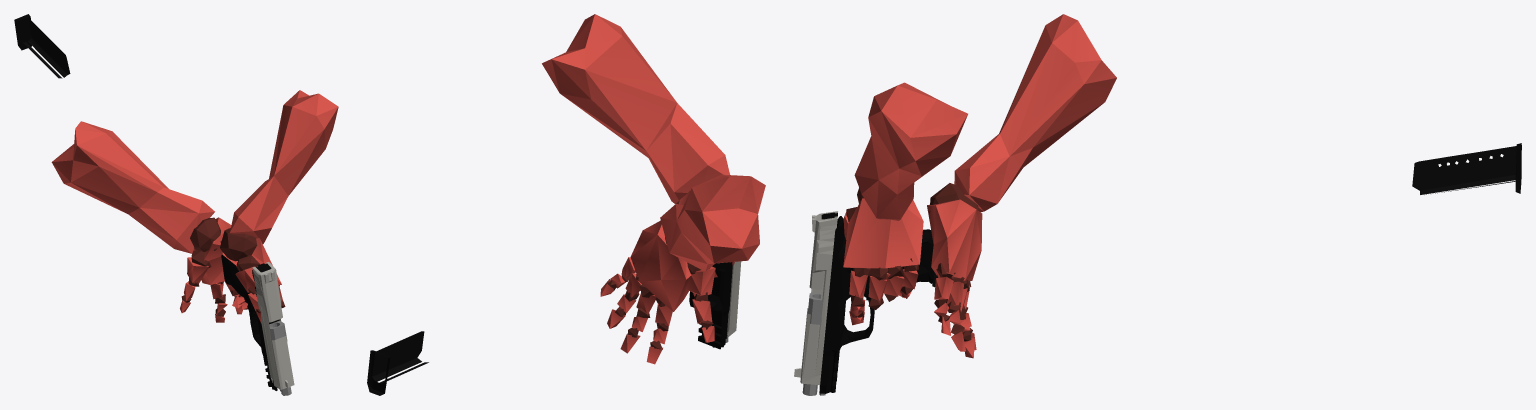
The model's file is M&P9reloadNormal1lowP_000144.obj.
3 views of the same model, side by side, from view 1: azimuth 30°, elevation 25°; view 2: azimuth 150°, elevation 25°; view 3: azimuth 270°, elevation 25° (orthographic). The views are drawn at different scales.
Visible parts, largest first — view 1: Beta_Surface.001_Beta_Surface.002, slide_平面.002, Beta_Joints.001_Beta_Joints.002, magazine_平面.003, triger_平面.001; view 2: Beta_Surface.001_Beta_Surface.002, magazine_平面.003, triger_平面.001, Beta_Joints.001_Beta_Joints.002, slide_平面.002; view 3: Beta_Surface.001_Beta_Surface.002, triger_平面.001, magazine_平面.003, slide_平面.002, Beta_Joints.001_Beta_Joints.002.
Boxes of the visible parts, x1,y1,x2,y2 form: Beta_Surface.001_Beta_Surface.002: [51, 90, 338, 323]; slide_平面.002: [252, 262, 294, 389]; Beta_Joints.001_Beta_Joints.002: [181, 217, 285, 316]; magazine_平面.003: [14, 14, 70, 78]; triger_平面.001: [221, 254, 291, 395]; Beta_Surface.001_Beta_Surface.002: [542, 14, 765, 364]; magazine_平面.003: [367, 331, 428, 395]; triger_平面.001: [689, 262, 732, 349]; Beta_Joints.001_Beta_Joints.002: [607, 237, 713, 349]; slide_平面.002: [727, 261, 741, 337]; Beta_Surface.001_Beta_Surface.002: [843, 14, 1116, 358]; triger_平面.001: [802, 216, 933, 395]; magazine_平面.003: [1412, 143, 1521, 194]; slide_平面.002: [794, 211, 837, 385]; Beta_Joints.001_Beta_Joints.002: [846, 183, 978, 341].
Size of the model in its own units: 60.54 by 71.63 by 134.
